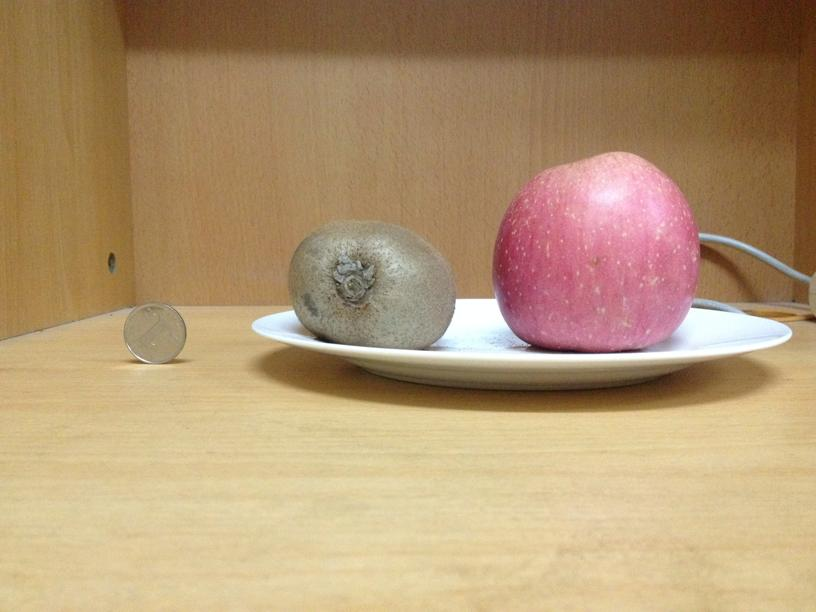apple: (495, 150, 698, 349)
coin: (122, 302, 186, 364)
qiwi: (292, 220, 454, 347)
